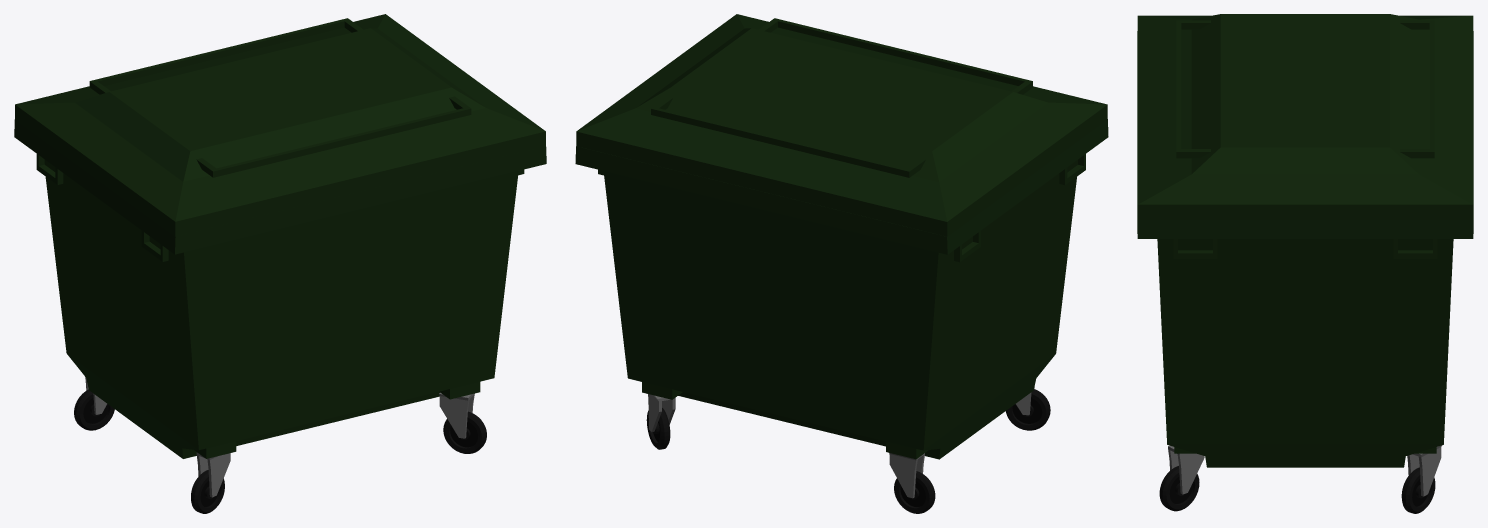
Rendered from garbageBin.obj.
The picture shows the model from 3 angles, left to right: view 1: azimuth 30°, elevation 25°; view 2: azimuth 150°, elevation 25°; view 3: azimuth 270°, elevation 25°; orthographic projection. The views are drawn at different scales.
Parts seen in each view (by area): view 1: garbage_bin; view 2: garbage_bin; view 3: garbage_bin.
Part boxes in pixels (x1=…): garbage_bin: x1=14, y1=14, x2=546, y2=513; garbage_bin: x1=575, y1=14, x2=1108, y2=513; garbage_bin: x1=1137, y1=14, x2=1473, y2=513.
Bounding box in the file's own units: 3.06 × 2.75 × 2.29.
